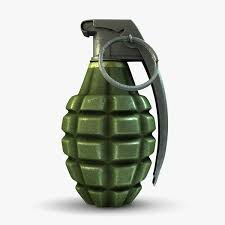bomb: (63, 18, 170, 209)
